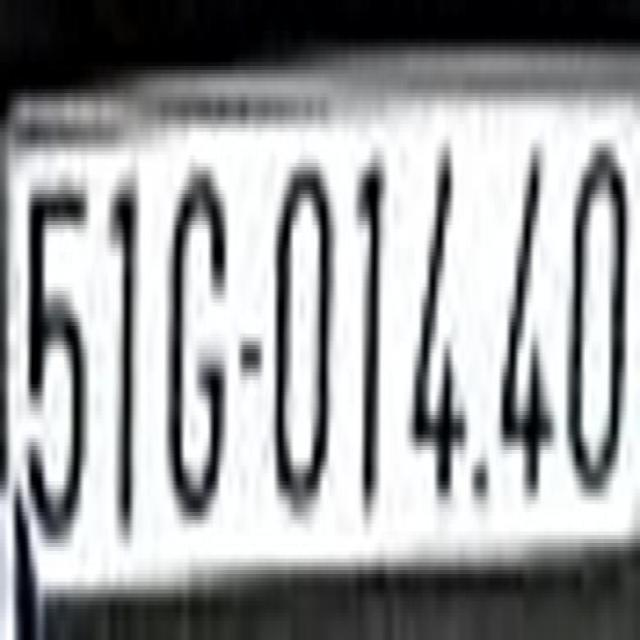0: (270, 132, 332, 527), (565, 124, 624, 512)
1: (350, 136, 386, 512), (108, 151, 139, 551)
4: (493, 124, 556, 500), (406, 124, 469, 489)
5: (26, 167, 87, 547)
G: (165, 155, 229, 547)
